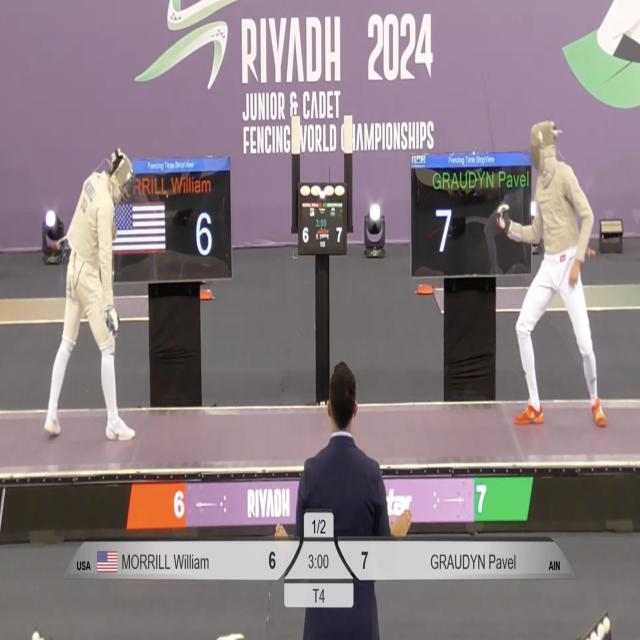fencer: (497, 117, 612, 440), (45, 124, 139, 451)
overlayLeft: (62, 533, 250, 581)
overlayRight: (379, 540, 574, 578)
scoreLeft: (255, 538, 303, 578)
scoreRight: (334, 542, 376, 581)
